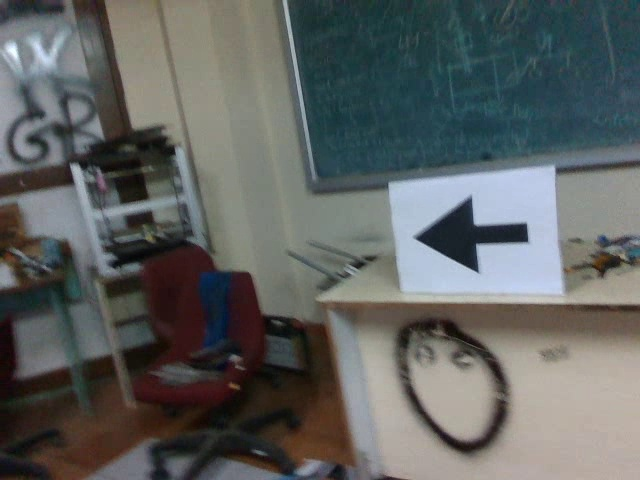Left: (405, 189, 535, 278)
